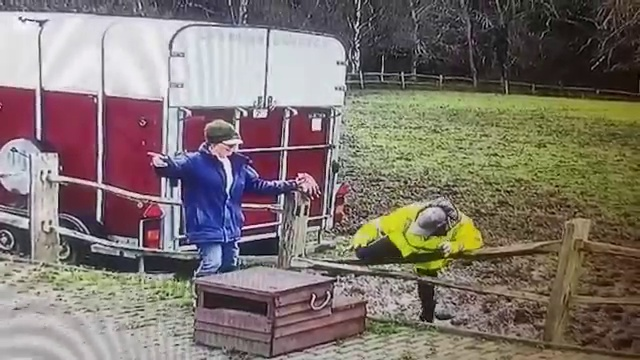face: (212, 138, 237, 157)
